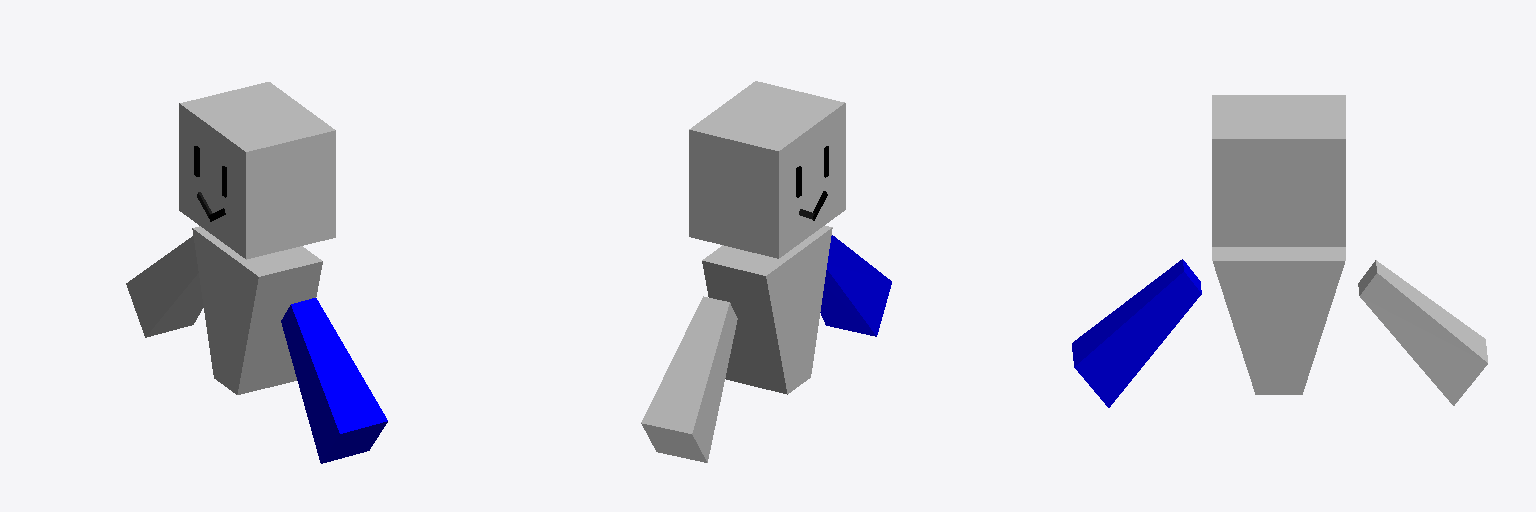
3 renders of one model, left to right at view 1: azimuth 30°, elevation 25°; view 2: azimuth 150°, elevation 25°; view 3: azimuth 270°, elevation 25°, orthographic.
Parts seen in each view (by area): view 1: model; view 2: model; view 3: model.
Boxes of the visible parts, x1,y1,x2,y2 form: model: [126, 82, 387, 463]; model: [641, 81, 891, 462]; model: [1072, 95, 1487, 407].
Size of the model in its own units: 1.44 by 4.15 by 5.63.
Materials: 7 (2 with a texture image).